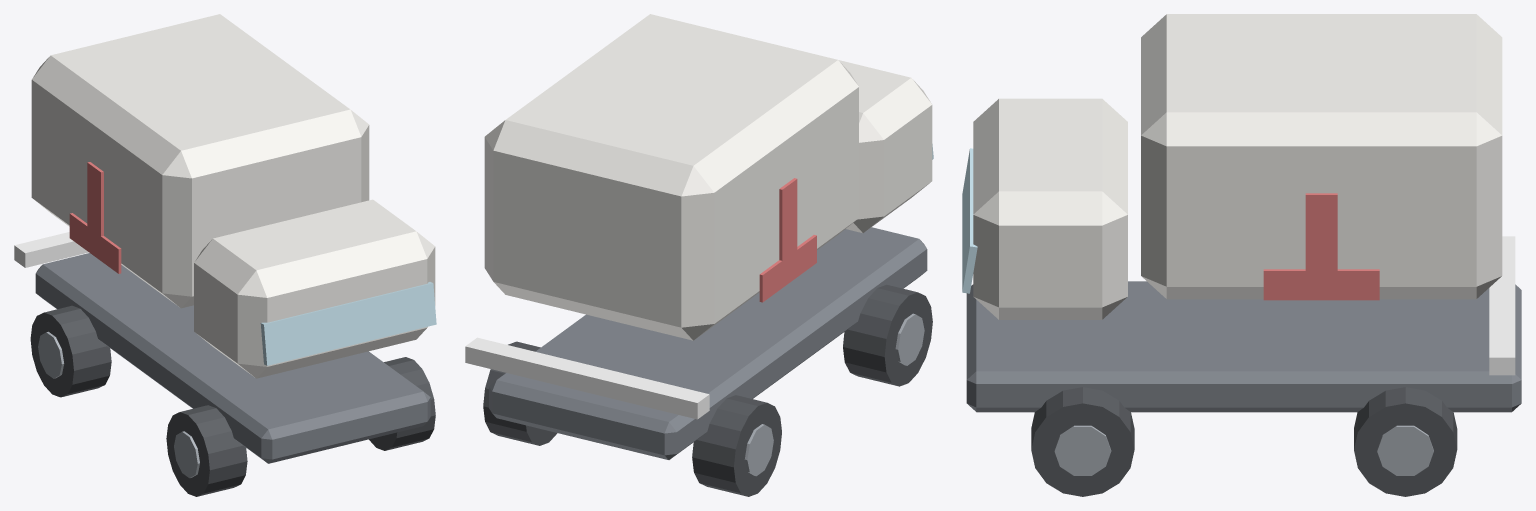
File: ambulance.glb
3 views of the same model, side by side, from view 1: azimuth 30°, elevation 25°; view 2: azimuth 150°, elevation 25°; view 3: azimuth 270°, elevation 25° (orthographic). The views are drawn at different scales.
Parts seen in each view (by area): view 1: main; view 2: main; view 3: main.
Part boxes in pixels (left/top/right/bottom): main: left=14, top=14, right=436, bottom=496; main: left=465, top=14, right=933, bottom=496; main: left=962, top=14, right=1521, bottom=496.
Bounding box in the file's own units: 0.49 × 0.63 × 0.8669.
